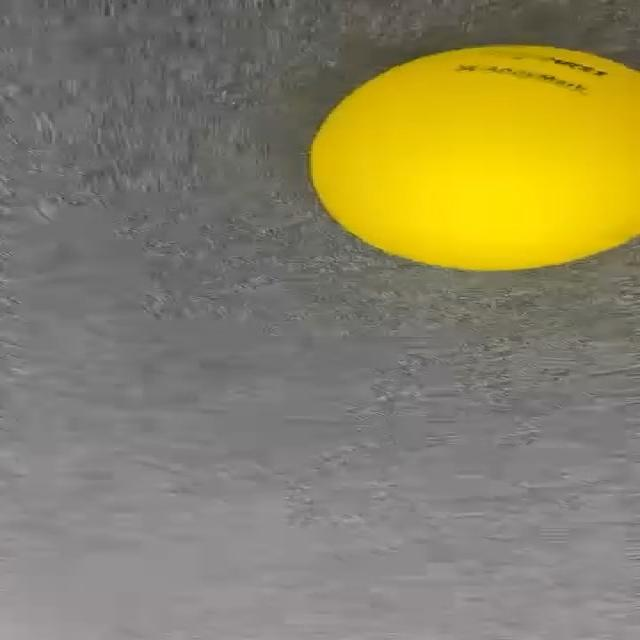Fuels: (307, 46, 640, 273)
